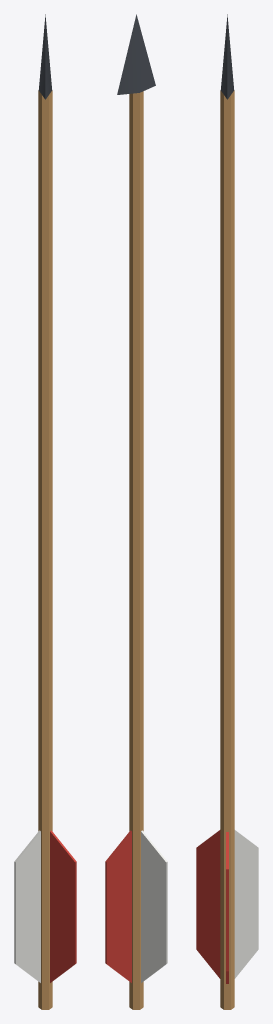
File: SM_Arrow.glb
3 views of the same model, side by side, from view 1: azimuth 90°, elevation 25°; view 2: azimuth 210°, elevation 25°; view 3: azimuth 270°, elevation 25° (orthographic).
Visible parts, largest first — view 1: SM_Arrow; view 2: SM_Arrow; view 3: SM_Arrow.
Boxes of the visible parts, x1=… form: SM_Arrow: x1=14, y1=14, x2=76, y2=1009; SM_Arrow: x1=105, y1=14, x2=167, y2=1009; SM_Arrow: x1=196, y1=14, x2=258, y2=1009.
Size of the model in its own units: 0.041 by 0.78 by 0.0443.
Materials: 1 (1 with a texture image).
